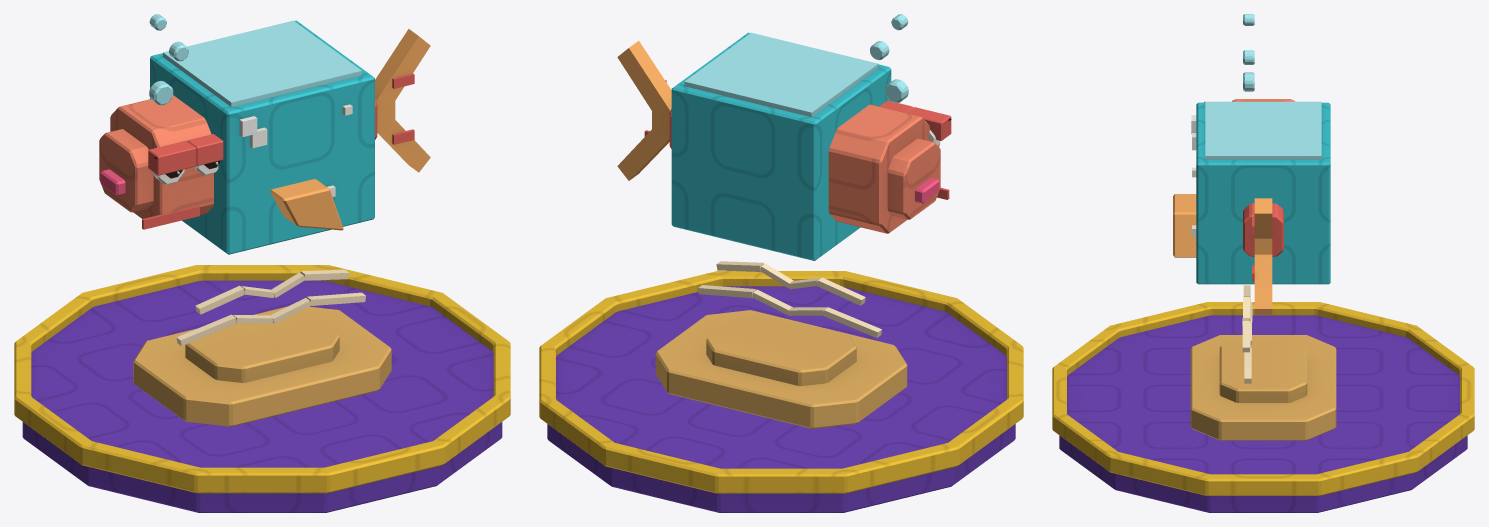
Rendered from MirageFish.fbx.
The picture shows the model from 3 angles, left to right: view 1: azimuth 30°, elevation 25°; view 2: azimuth 150°, elevation 25°; view 3: azimuth 270°, elevation 25°; orthographic projection. The views are drawn at different scales.
Visible parts, largest first — view 1: Art_MirageFish_Stand, Art_MirageFish_Cube, Art_MirageFish_Haze, Art_MirageFish_Head, Art_MirageFish_Tail, Art_MirageFish_Fin, Art_MirageFish_Bubbles; view 2: Art_MirageFish_Stand, Art_MirageFish_Cube, Art_MirageFish_Haze, Art_MirageFish_Head, Art_MirageFish_Tail, Art_MirageFish_Bubbles; view 3: Art_MirageFish_Stand, Art_MirageFish_Cube, Art_MirageFish_Haze, Art_MirageFish_Tail, Art_MirageFish_Fin, Art_MirageFish_Bubbles.
Part boxes in pixels (x1,y1,x2,y2): Art_MirageFish_Stand: [14, 265, 510, 512]; Art_MirageFish_Cube: [150, 20, 374, 254]; Art_MirageFish_Haze: [133, 269, 391, 426]; Art_MirageFish_Head: [99, 95, 223, 229]; Art_MirageFish_Tail: [375, 29, 430, 172]; Art_MirageFish_Fin: [270, 179, 343, 230]; Art_MirageFish_Bubbles: [149, 14, 188, 105]; Art_MirageFish_Stand: [539, 271, 1023, 512]; Art_MirageFish_Cube: [671, 32, 891, 260]; Art_MirageFish_Haze: [655, 261, 907, 428]; Art_MirageFish_Head: [828, 100, 951, 233]; Art_MirageFish_Tail: [617, 40, 671, 180]; Art_MirageFish_Bubbles: [870, 14, 908, 102]; Art_MirageFish_Stand: [1052, 302, 1474, 512]; Art_MirageFish_Cube: [1191, 101, 1330, 284]; Art_MirageFish_Haze: [1190, 285, 1336, 440]; Art_MirageFish_Tail: [1243, 198, 1283, 314]; Art_MirageFish_Fin: [1173, 194, 1196, 257]; Art_MirageFish_Bubbles: [1243, 14, 1254, 91].
Bounding box in the file's own units: 2.9 × 2.77 × 2.9.
